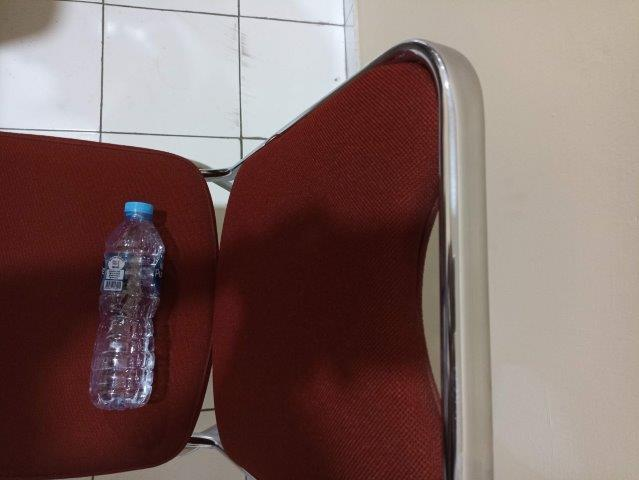botolplastik: (84, 202, 165, 409)
